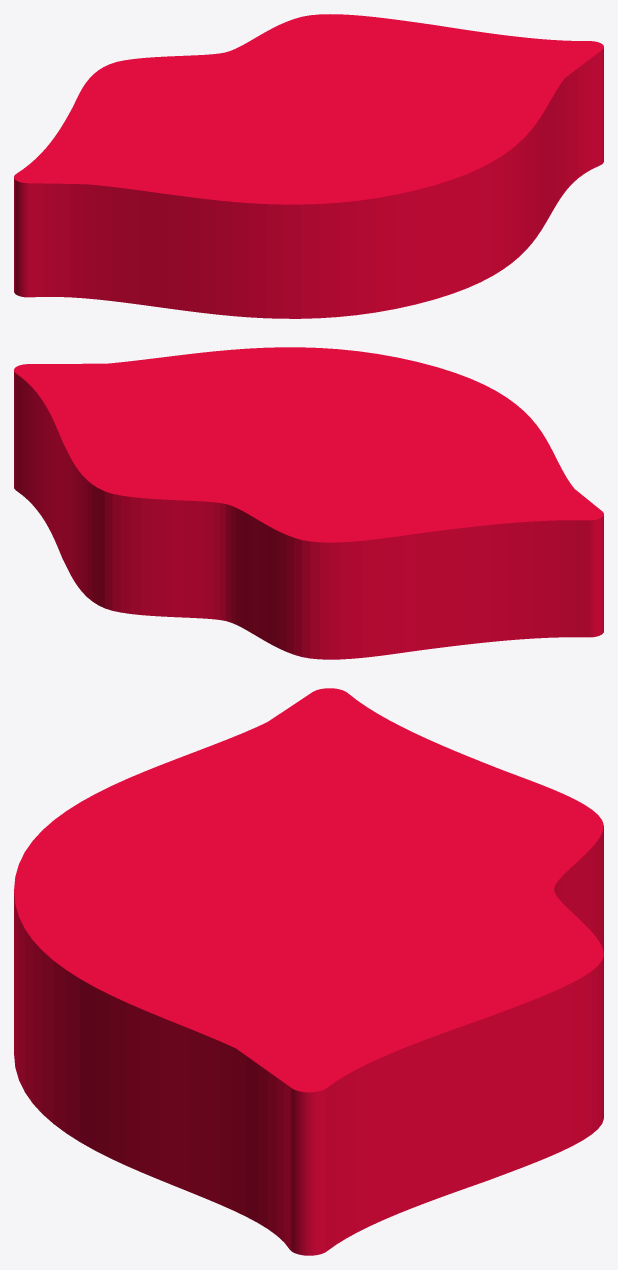
Rendered from kiss.fbx.
3 views of the same model, one above another, from view 1: azimuth 30°, elevation 25°; view 2: azimuth 150°, elevation 25°; view 3: azimuth 270°, elevation 25° (orthographic). The views are drawn at different scales.
Parts seen in each view (by area): view 1: Curve; view 2: Curve; view 3: Curve.
Part boxes in pixels (bbox=[...]): Curve: bbox=[14, 14, 603, 318]; Curve: bbox=[14, 347, 603, 659]; Curve: bbox=[14, 688, 603, 1255].
Size of the model in its own units: 2.65 by 0.5 by 1.64.
